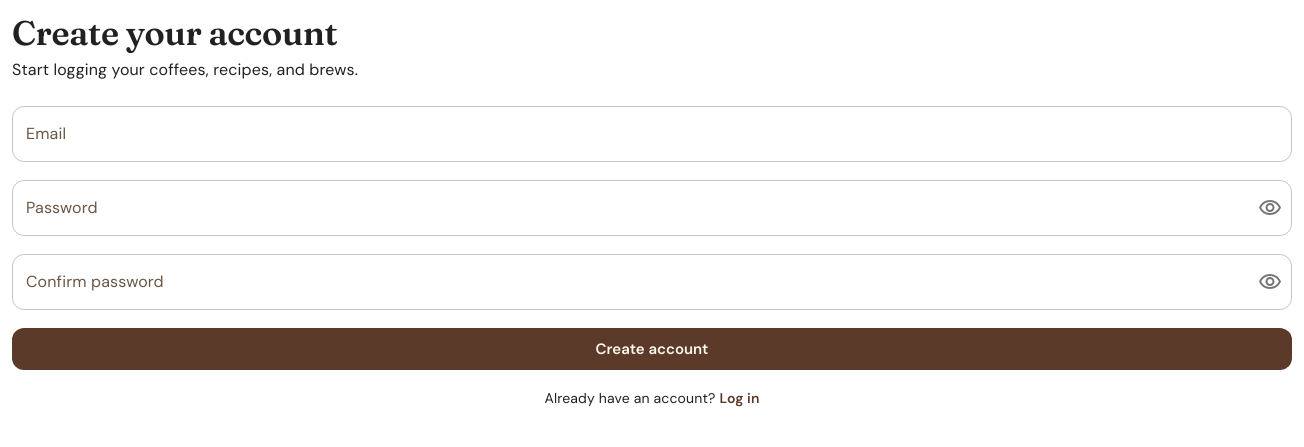
Scenario: RegisterForm › requires the password confirmation
In the field labelled "Email": (652, 134) [12,106,1292,162], type "brewer@example.com"
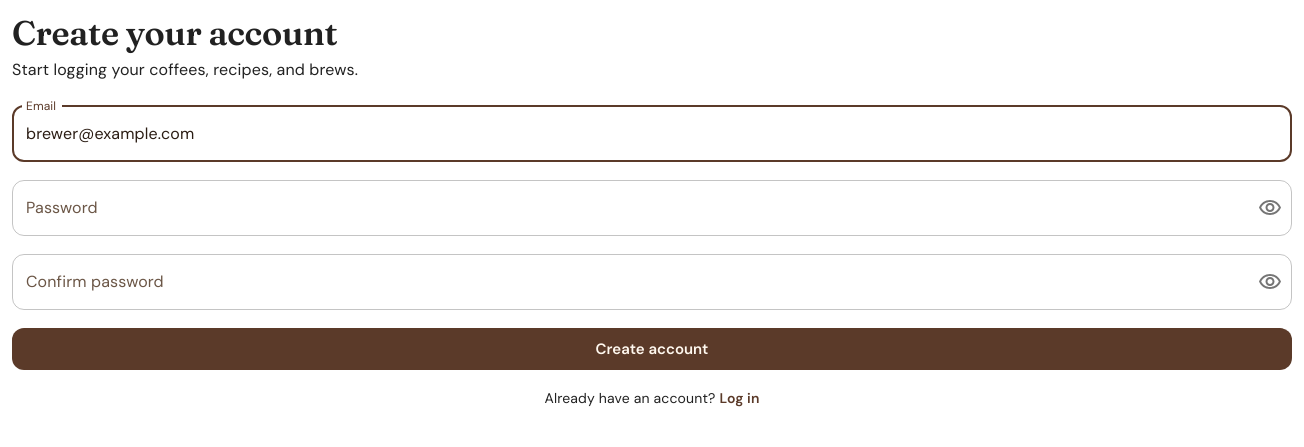
In the password field labelled "Password": (627, 208) [12,180,1242,236], type "brew-test-pass-001"
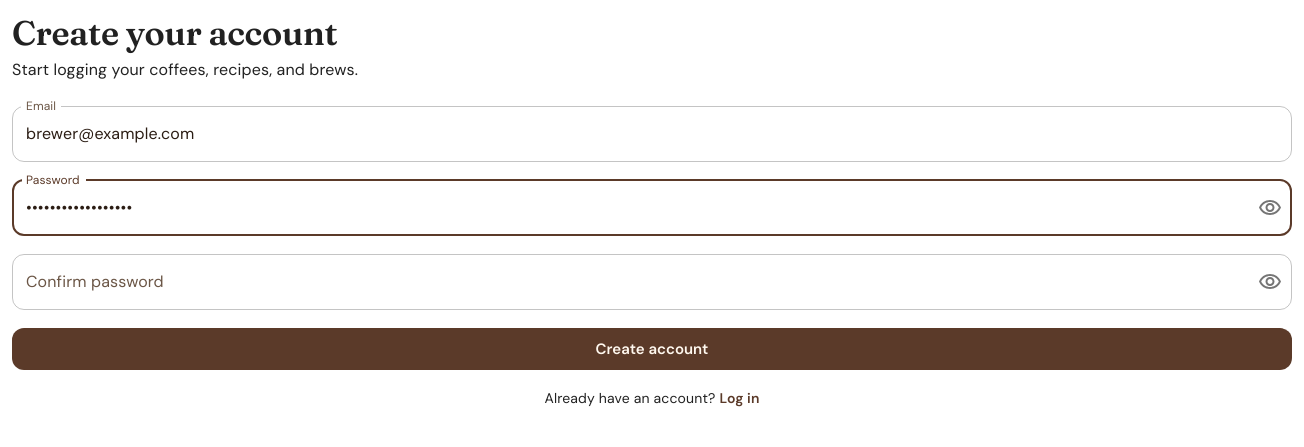
Click the button "Create account": (652, 349) [12,328,1292,370]
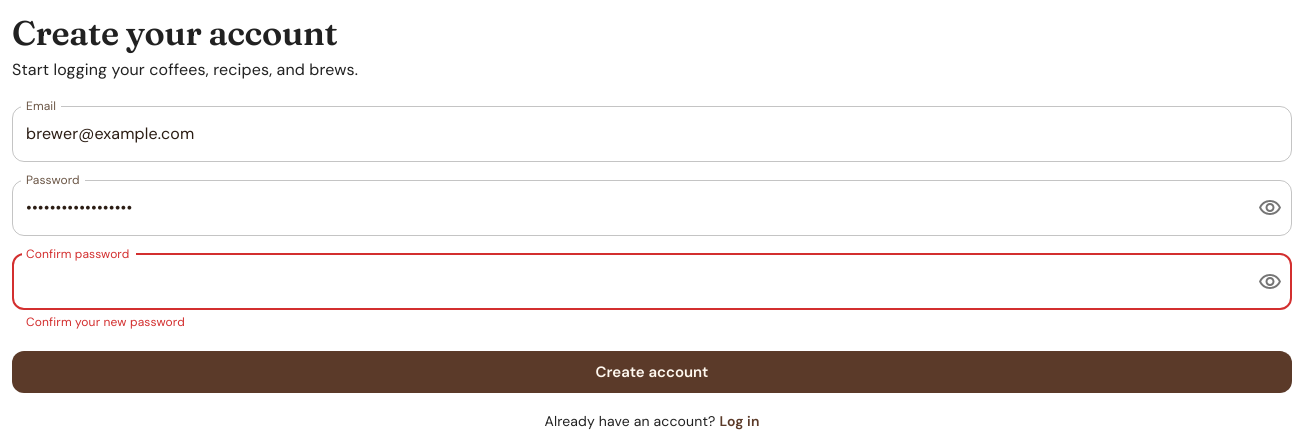
expect the text "Confirm your new password" is shown: met, box [26,314,185,330]
